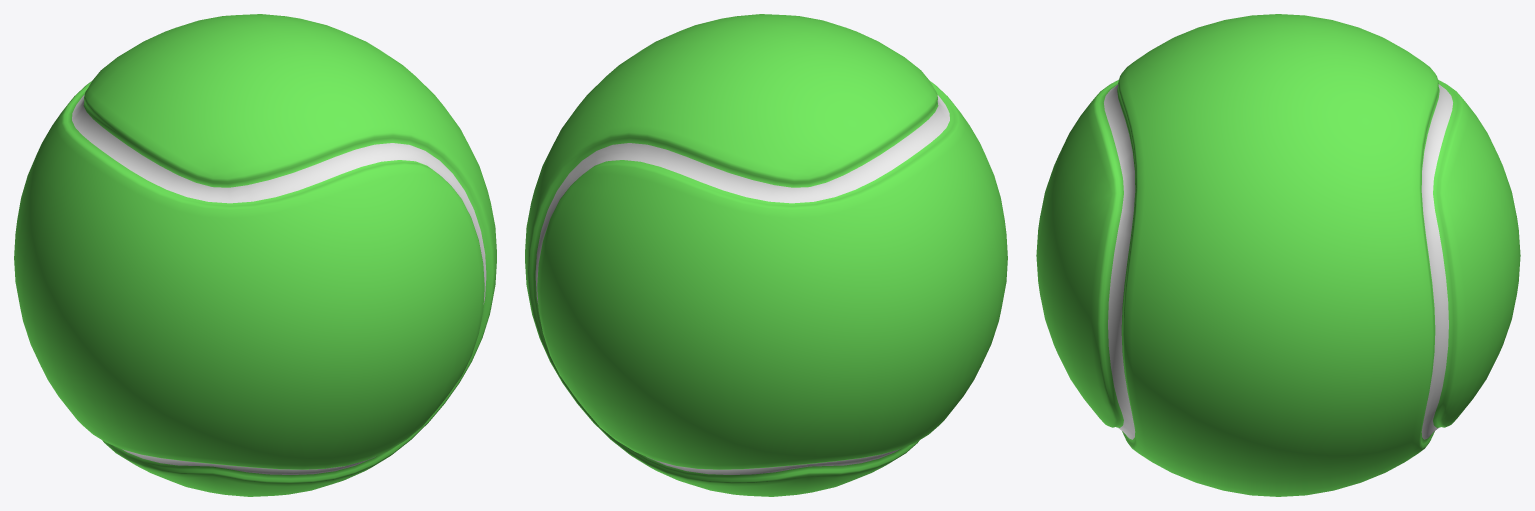
Rendered from tennes_ball.glb.
3 renders of one model, left to right at view 1: azimuth 30°, elevation 25°; view 2: azimuth 150°, elevation 25°; view 3: azimuth 270°, elevation 25°, orthographic.
Parts seen in each view (by area): view 1: Object_3, Object_2; view 2: Object_3, Object_2; view 3: Object_3, Object_2.
Boxes of the visible parts, <box> form: Object_3: <box>14,14,496,496</box>; Object_2: <box>72,95,486,474</box>; Object_3: <box>525,14,1007,496</box>; Object_2: <box>535,95,949,474</box>; Object_3: <box>1036,14,1520,496</box>; Object_2: <box>1104,84,1452,439</box>.
Size of the model in its own units: 1.96 by 1.96 by 1.96.
